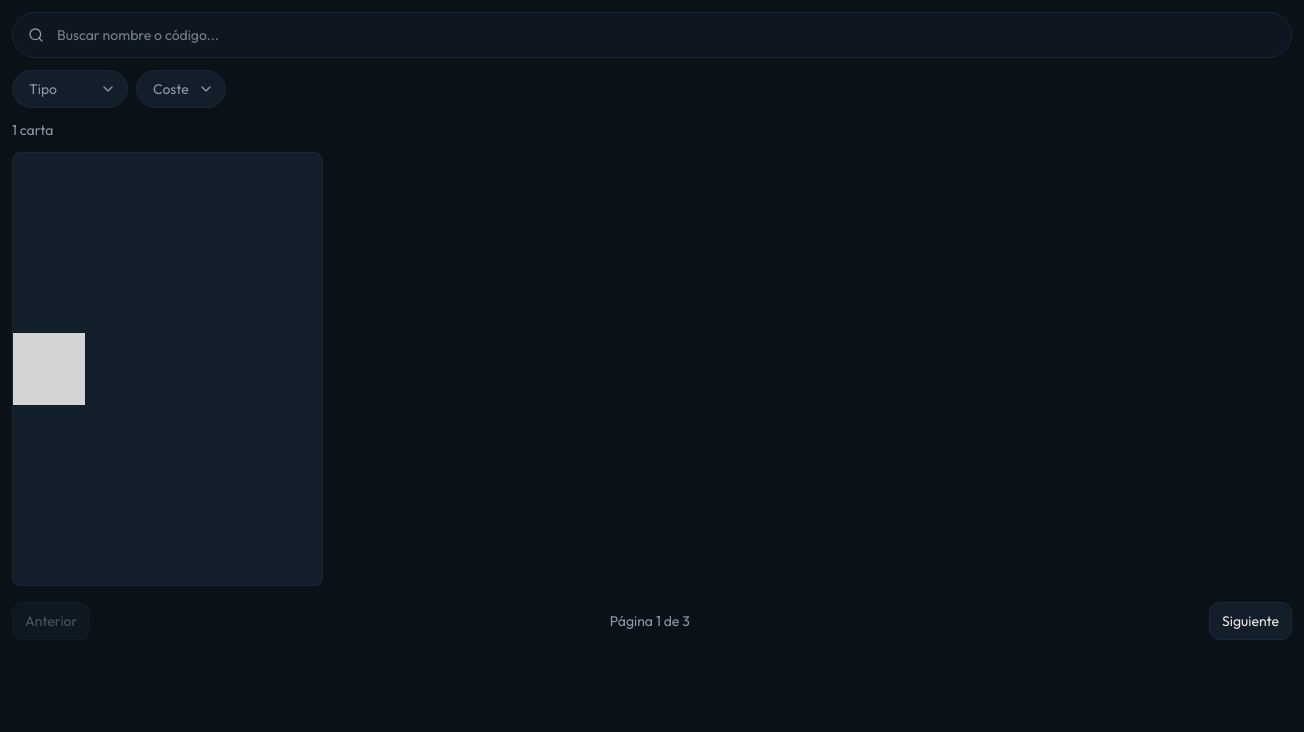
Test case: CardCatalog › vuelve a la primera página al cambiar un filtro
The image size is (1304, 732).
Click the button "Siguiente" at {"x": 1251, "y": 621}, box [1209,602,1292,640]
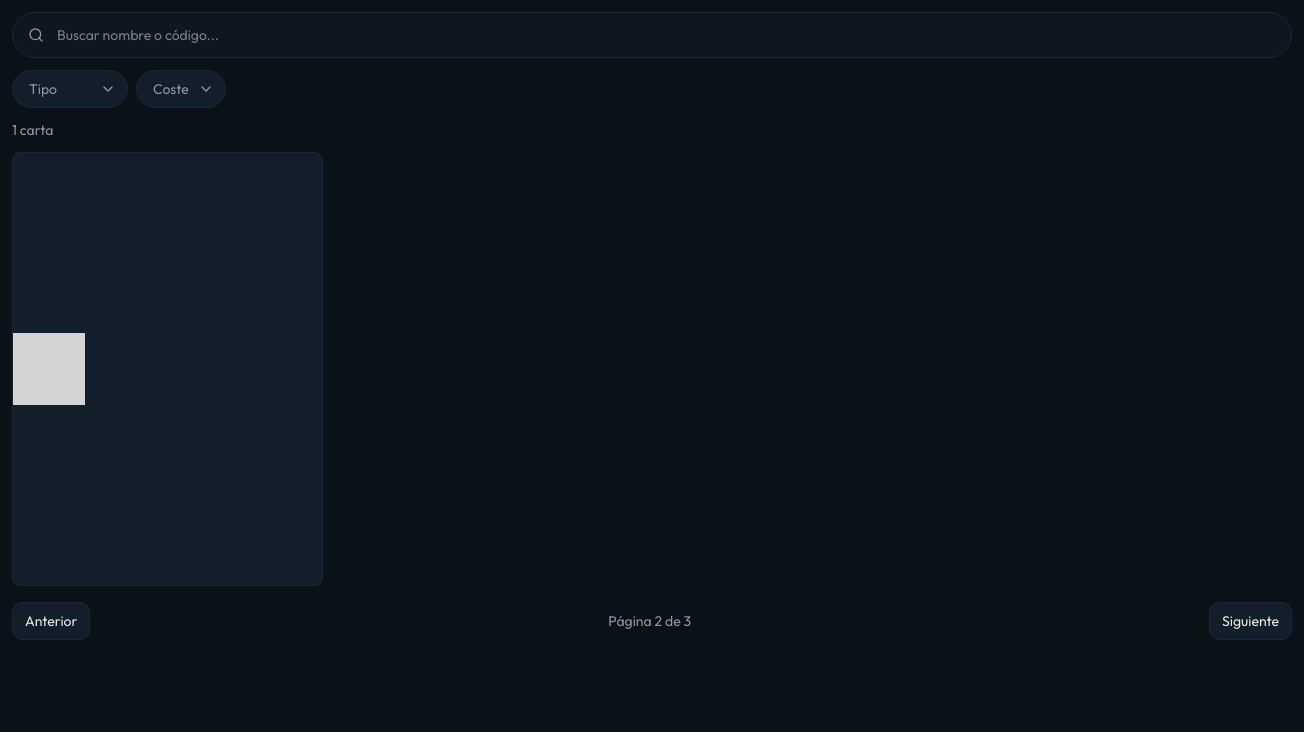
Expected: the text "Página 2 de 3" is shown, [608,611,691,631]
Select "Evento" in the dropdown named "Tipo" at {"x": 70, "y": 89}, box [12,70,128,108]
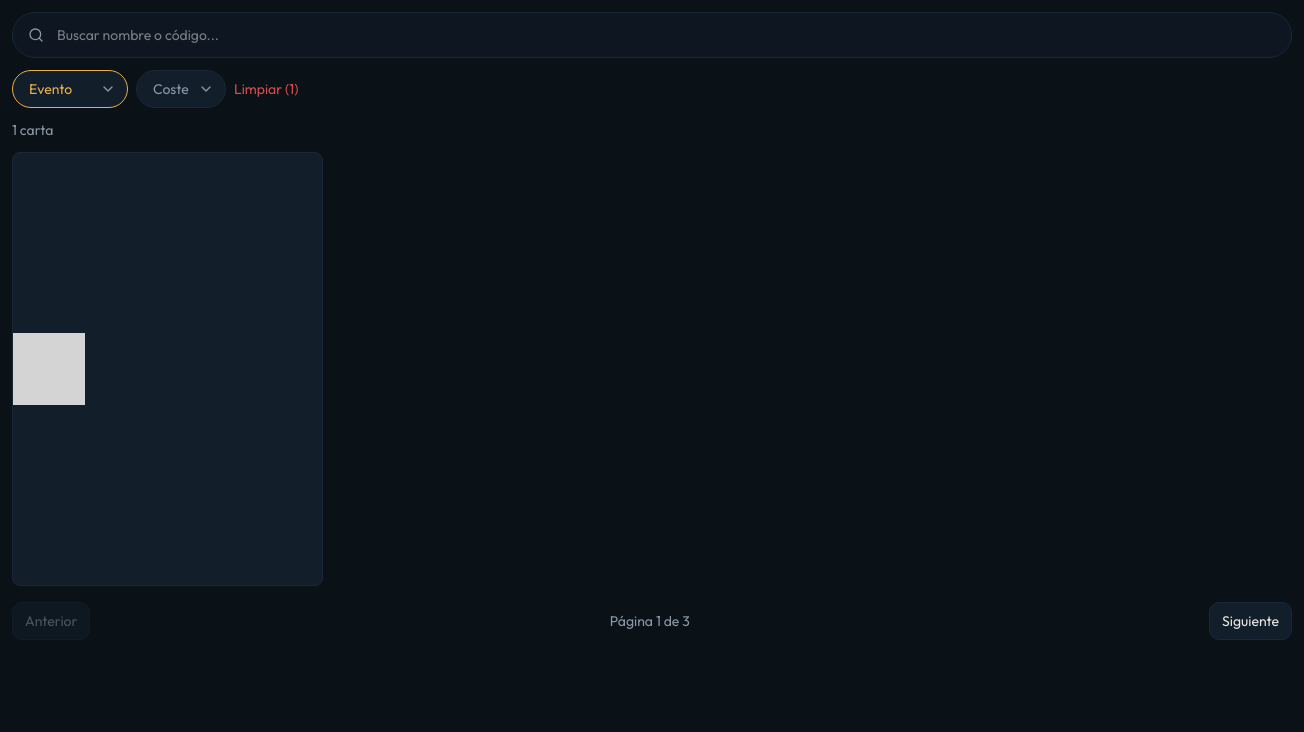
Expected: the text "Página 1 de 3" is shown, [610,611,690,631]
